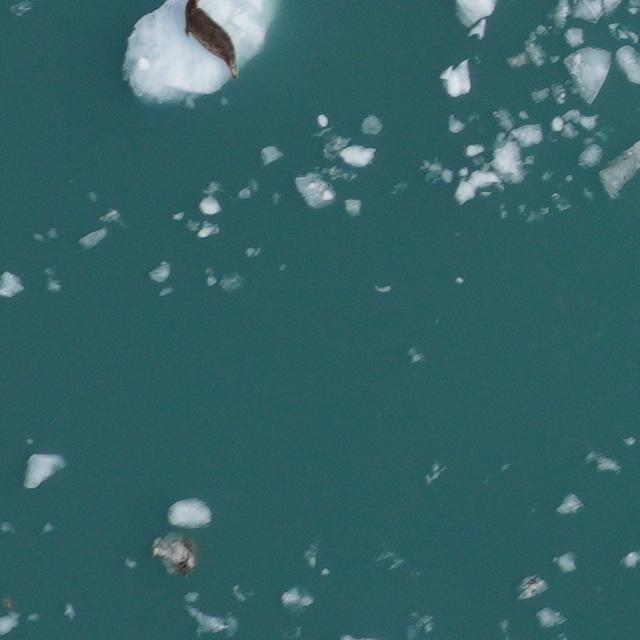seal: (183, 0, 239, 79)
